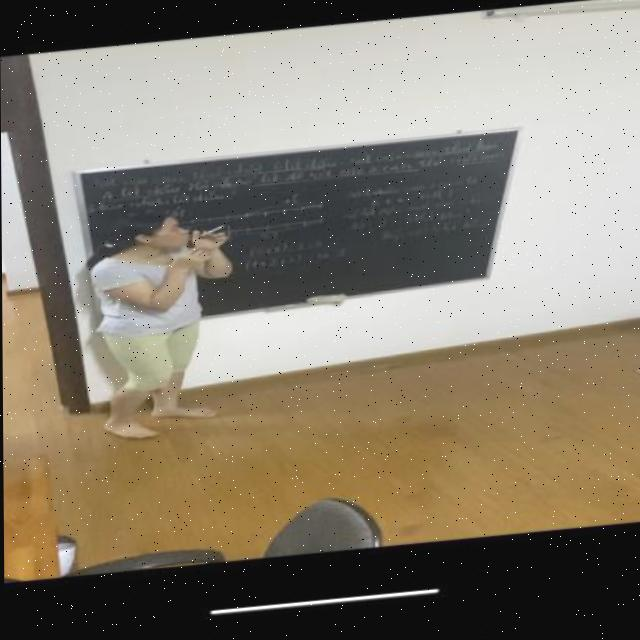cigarette: (200, 229, 227, 241)
